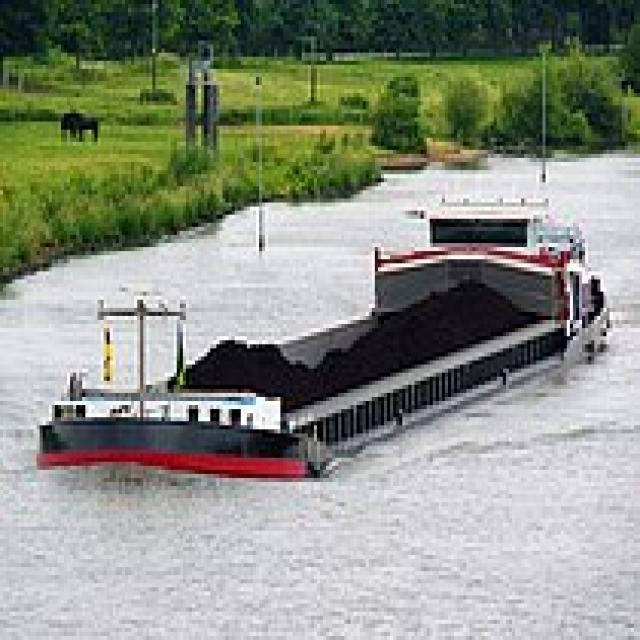Cargo: (28, 178, 610, 482)
